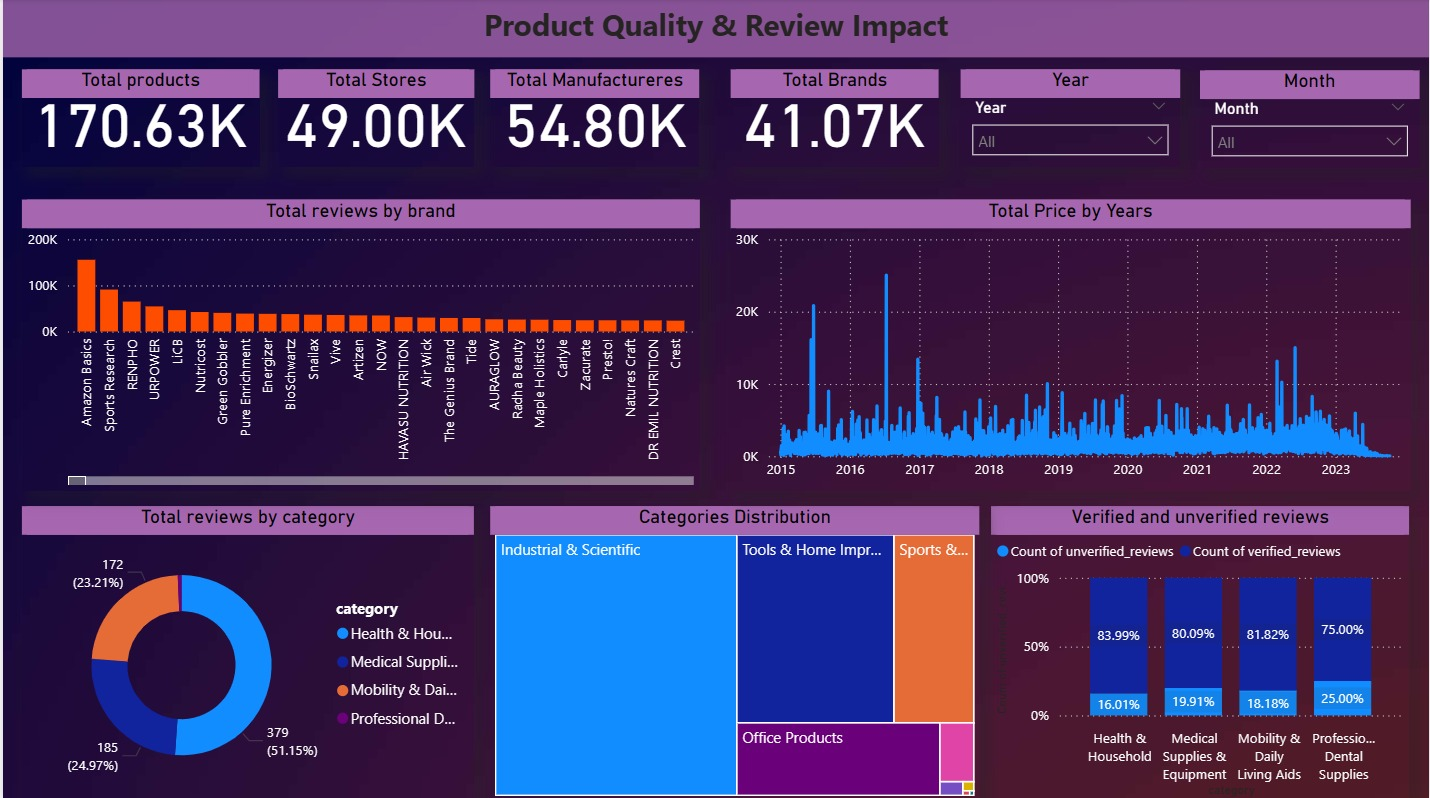

The dashboard page shown, as its layout file describes it:
{"tool":"powerbi","page":{"name":"DASHBOARD 1","canvas":[1280,720],"ordinal":1},"visuals":[{"type":"textbox","box":[0,0,1280,52.5],"z":0},{"type":"hundredPercentStackedColumnChart","title":"Verified and unverified reviews","fields":{"Category":["HEALTH AND HOUSEHOLDS POWERBI.category"],"Y":["Count(HEALTH AND HOUSEHOLDS POWERBI.unverified_reviews)","Count(HEALTH AND HOUSEHOLDS POWERBI.verified_reviews)"]},"box":[887.2,455.3,375.5,264.9],"z":1000},{"type":"donutChart","title":"Total reviews by category","fields":{"Category":["HEALTH AND HOUSEHOLDS POWERBI.category"],"Y":["Count(HEALTH AND HOUSEHOLDS POWERBI.avg_rating)"]},"box":[17,455,406,265],"z":2000},{"type":"columnChart","title":"Total reviews by brand","fields":{"Category":["HEALTH AND HOUSEHOLDS POWERBI.brand"],"Y":["Sum(HEALTH AND HOUSEHOLDS POWERBI.total_reviews)"]},"box":[16.7,180,608.3,261.7],"z":3000},{"type":"card","title":"Total products","fields":{"Values":["Count(HEALTH AND HOUSEHOLDS POWERBI.parent_asin)"]},"box":[17,63,213,88],"z":4000},{"type":"card","title":"Total Stores","fields":{"Values":["Count(HEALTH AND HOUSEHOLDS POWERBI.store)"]},"box":[247,63,176,88],"z":5000},{"type":"card","title":"Total Manufactureres","fields":{"Values":["Count(HEALTH AND HOUSEHOLDS POWERBI.manufacturer)"]},"box":[437,63,188,88],"z":6000},{"type":"card","title":"Total Brands","fields":{"Values":["Count(HEALTH AND HOUSEHOLDS POWERBI.brand)"]},"box":[653,63,187,88],"z":7000},{"type":"treemap","title":"Categories Distribution","fields":{"Group":["HEALTH AND HOUSEHOLDS POWERBI.main_category"],"Values":["CountNonNull(HEALTH AND HOUSEHOLDS POWERBI.category)"]},"box":[437.2,455.3,439.4,264.9],"z":8000},{"type":"lineChart","title":"Total Price by Years","fields":{"Y":["Sum(HEALTH AND HOUSEHOLDS POWERBI.price)"],"Category":["HEALTH AND HOUSEHOLDS POWERBI.date_first_available.Variation.Date Hierarchy.Year","HEALTH AND HOUSEHOLDS POWERBI.date_first_available.Variation.Date Hierarchy.Month","HEALTH AND HOUSEHOLDS POWERBI.date_first_available.Variation.Date Hierarchy.Day"]},"box":[653.3,180,610,261.7],"z":9000},{"type":"slicer","title":"Year","fields":{"Values":["HEALTH AND HOUSEHOLDS POWERBI.date_first_available.Variation.Date Hierarchy.Year"]},"box":[860,63,197,88],"z":10000},{"type":"slicer","title":"Month","fields":{"Values":["HEALTH AND HOUSEHOLDS POWERBI.date_first_available.Variation.Date Hierarchy.Month"]},"box":[1074.5,63.8,196.8,87.2],"z":11000}]}

Visuals, with their boxes in screenshot pixels (x1, y1, x2, y2), scaled from the page's 1280x720 canvas onto the 1430x798 screenshot:
textbox: [0,0,1429,58]
"Verified and unverified reviews" hundredPercentStackedColumnChart: [991,505,1411,797]
"Total reviews by category" donutChart: [19,504,473,797]
"Total reviews by brand" columnChart: [19,200,698,490]
"Total products" card: [19,70,257,167]
"Total Stores" card: [276,70,473,167]
"Total Manufactureres" card: [488,70,698,167]
"Total Brands" card: [730,70,938,167]
"Categories Distribution" treemap: [488,505,979,797]
"Total Price by Years" lineChart: [730,200,1411,490]
"Year" slicer: [961,70,1181,167]
"Month" slicer: [1200,71,1420,167]
